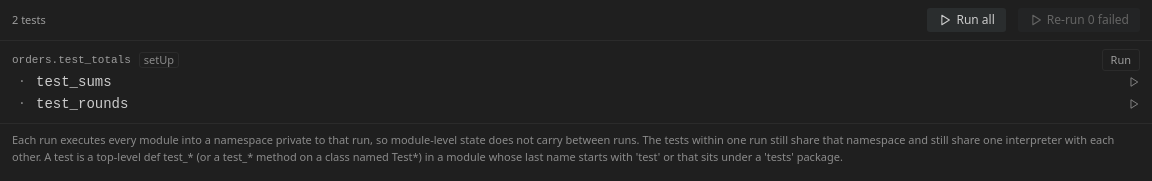
it: TestsPanel › does not show a skipped count when nothing was skipped
Click the button "Run all".
click(967, 20)  # box [928, 8, 1006, 32]
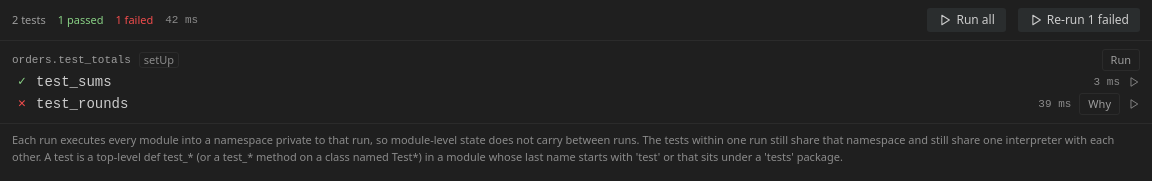
Result: the text "1 passed" is shown at [58, 13, 103, 27]
